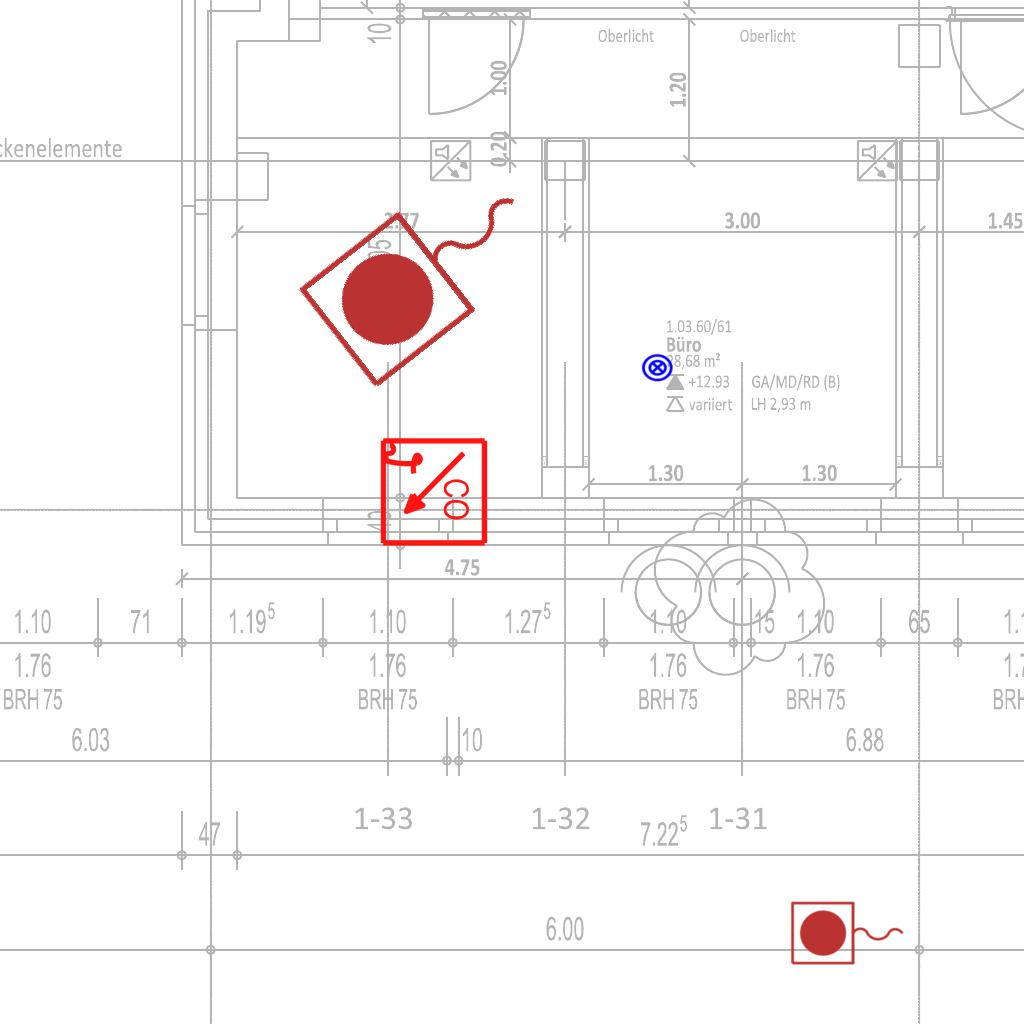ROA_Rauchmelder_optisch_mit_Signalgeber_(Sockelsirene): (376, 436, 489, 549)
Taster_beleuchtet: (641, 351, 674, 384)
Zugtaster: (287, 138, 569, 402), (787, 898, 909, 970)
